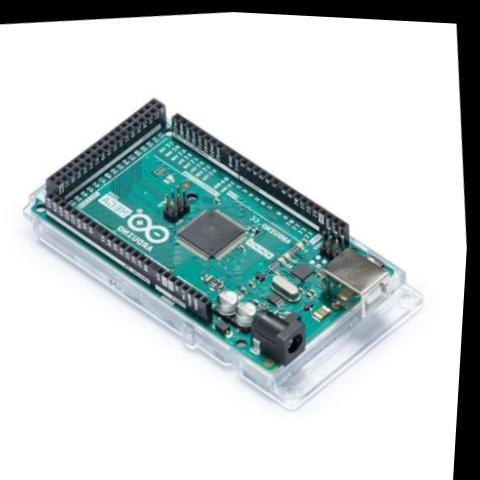Arduino-Mega: (4, 59, 422, 410)
